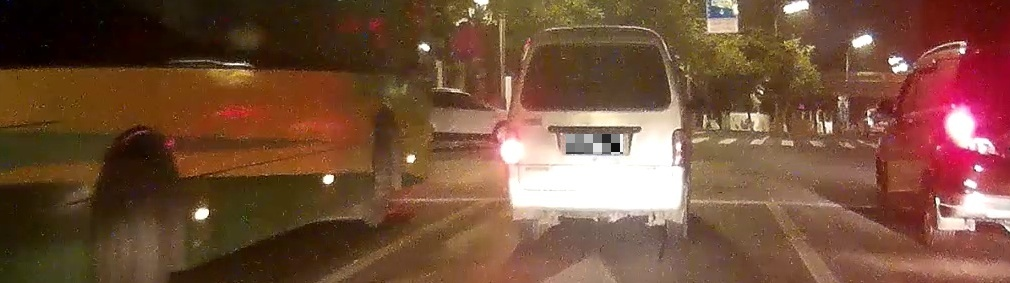L_light: (503, 128, 520, 165)
T_light: (581, 43, 609, 50)
day-no: (671, 129, 687, 166)
night-left: (499, 26, 687, 240)
plate_1: (566, 134, 623, 154)
